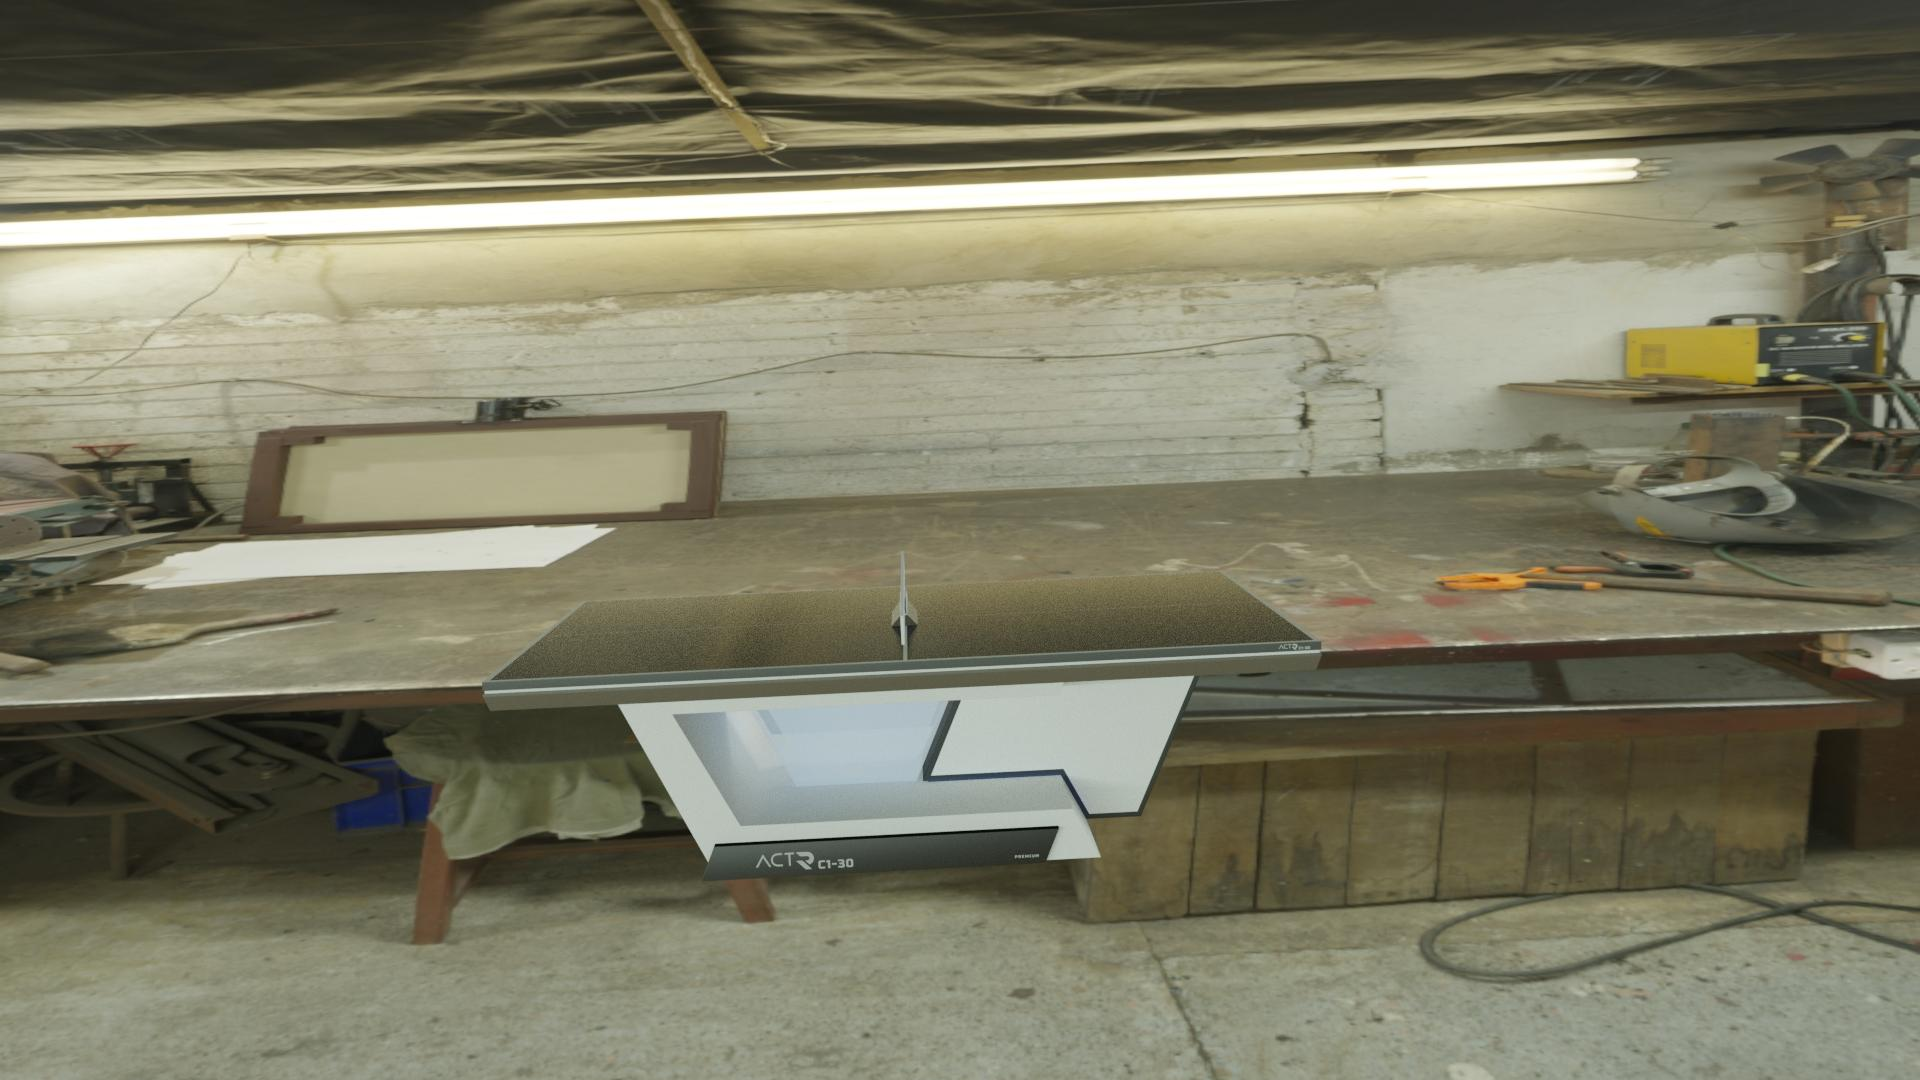table: (489, 572, 1313, 680)
